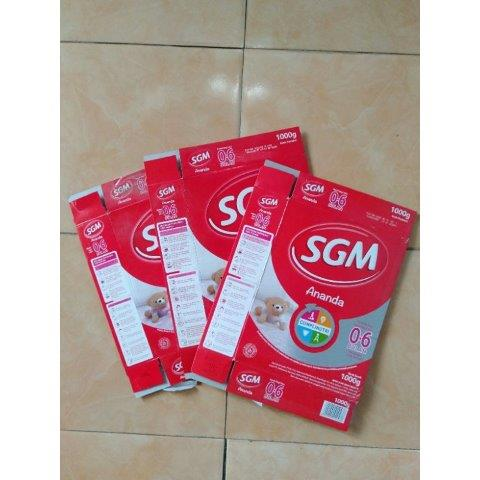kardus: (190, 160, 414, 429), (146, 126, 303, 376), (70, 127, 182, 393)
